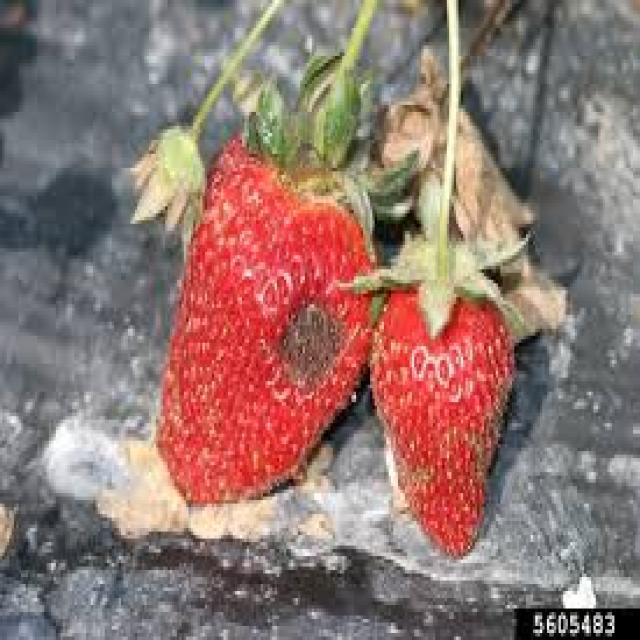Fruta sana: (372, 276, 508, 549)
Mancha negra Antracnosis: (165, 131, 381, 497)
